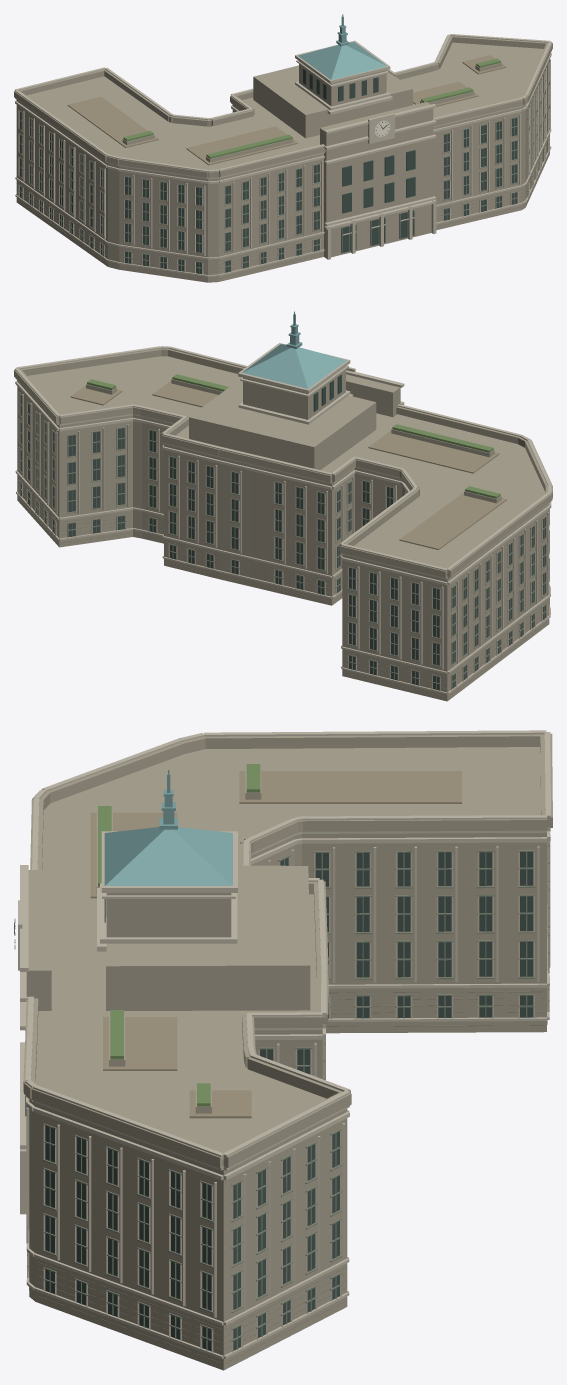
The model's file is bespoke-seoul-city-hall-library.glb.
3 renders of one model, top to bottom at view 1: azimuth 30°, elevation 25°; view 2: azimuth 150°, elevation 25°; view 3: azimuth 270°, elevation 25°, orthographic. The views are drawn at different scales.
Visible parts, largest first — view 1: Old_01_Source_U_Footprint_Observed_warm_grey_granite, Old_02_Stone_Facade_Light_limestone_cornices, Old_03_Central_Portal_Observed_warm_grey_granite, Old_02_Stone_Facade_Historic_dark_green_windows, Old_05_Roof_Terraces_Observed_warm_grey_granite, Old_02_Stone_Facade_Historic_bronze_frames, Old_04_Clock_Tower_Observed_warm_grey_granite, Old_05_Roof_Terraces_Roof_garden_deck, Old_03_Central_Portal_Light_limestone_cornices, Old_03_Central_Portal_Historic_dark_green_windows, Old_04_Clock_Tower_Weathered_blue_green_clock_roof, Old_04_Clock_Tower_Light_limestone_cornices (+4 smaller); view 2: Old_01_Source_U_Footprint_Observed_warm_grey_granite, Old_02_Stone_Facade_Light_limestone_cornices, Old_02_Stone_Facade_Historic_dark_green_windows, Old_04_Clock_Tower_Observed_warm_grey_granite, Old_05_Roof_Terraces_Observed_warm_grey_granite, Old_02_Stone_Facade_Historic_bronze_frames, Old_05_Roof_Terraces_Roof_garden_deck, Old_04_Clock_Tower_Weathered_blue_green_clock_roof, Old_04_Clock_Tower_Light_limestone_cornices, Old_02_Stone_Facade_Recessed_stone_courses, Old_05_Roof_Terraces_Library_roof_planting, Old_03_Central_Portal_Observed_warm_grey_granite; view 3: Old_01_Source_U_Footprint_Observed_warm_grey_granite, Old_02_Stone_Facade_Light_limestone_cornices, Old_04_Clock_Tower_Observed_warm_grey_granite, Old_05_Roof_Terraces_Observed_warm_grey_granite, Old_02_Stone_Facade_Historic_dark_green_windows, Old_05_Roof_Terraces_Roof_garden_deck, Old_02_Stone_Facade_Historic_bronze_frames, Old_04_Clock_Tower_Weathered_blue_green_clock_roof, Old_04_Clock_Tower_Light_limestone_cornices, Old_03_Central_Portal_Observed_warm_grey_granite, Old_03_Central_Portal_Light_limestone_cornices, Old_02_Stone_Facade_Recessed_stone_courses (+1 smaller).
Part boxes in pixels (left/top/right/bottom): Old_01_Source_U_Footprint_Observed_warm_grey_granite: left=16, top=42, right=549, bottom=282; Old_02_Stone_Facade_Light_limestone_cornices: left=14, top=34, right=551, bottom=276; Old_03_Central_Portal_Observed_warm_grey_granite: left=320, top=102, right=433, bottom=257; Old_02_Stone_Facade_Historic_dark_green_windows: left=19, top=112, right=517, bottom=273; Old_05_Roof_Terraces_Observed_warm_grey_granite: left=14, top=35, right=552, bottom=177; Old_02_Stone_Facade_Historic_bronze_frames: left=18, top=62, right=549, bottom=273; Old_04_Clock_Tower_Observed_warm_grey_granite: left=253, top=61, right=412, bottom=138; Old_05_Roof_Terraces_Roof_garden_deck: left=67, top=55, right=506, bottom=165; Old_03_Central_Portal_Light_limestone_cornices: left=324, top=104, right=436, bottom=259; Old_03_Central_Portal_Historic_dark_green_windows: left=341, top=150, right=415, bottom=252; Old_04_Clock_Tower_Weathered_blue_green_clock_roof: left=298, top=14, right=386, bottom=79; Old_04_Clock_Tower_Light_limestone_cornices: left=295, top=40, right=394, bottom=143; Old_01_Source_U_Footprint_Observed_warm_grey_granite: left=17, top=356, right=549, bottom=701; Old_02_Stone_Facade_Light_limestone_cornices: left=15, top=346, right=551, bottom=694; Old_02_Stone_Facade_Historic_dark_green_windows: left=19, top=394, right=545, bottom=690; Old_04_Clock_Tower_Observed_warm_grey_granite: left=189, top=366, right=376, bottom=469; Old_05_Roof_Terraces_Observed_warm_grey_granite: left=14, top=348, right=552, bottom=577; Old_02_Stone_Facade_Historic_bronze_frames: left=18, top=391, right=549, bottom=690; Old_05_Roof_Terraces_Roof_garden_deck: left=70, top=380, right=506, bottom=549; Old_04_Clock_Tower_Weathered_blue_green_clock_roof: left=242, top=311, right=346, bottom=388; Old_04_Clock_Tower_Light_limestone_cornices: left=238, top=343, right=355, bottom=424; Old_02_Stone_Facade_Recessed_stone_courses: left=17, top=476, right=548, bottom=697; Old_05_Roof_Terraces_Library_roof_planting: left=87, top=374, right=500, bottom=498; Old_03_Central_Portal_Observed_warm_grey_granite: left=346, top=374, right=400, bottom=417; Old_01_Source_U_Footprint_Observed_warm_grey_granite: left=29, top=747, right=546, bottom=1370; Old_02_Stone_Facade_Light_limestone_cornices: left=25, top=730, right=550, bottom=1358; Old_04_Clock_Tower_Observed_warm_grey_granite: left=106, top=865, right=310, bottom=1010; Old_05_Roof_Terraces_Observed_warm_grey_granite: left=23, top=733, right=552, bottom=1168; Old_02_Stone_Facade_Historic_dark_green_windows: left=45, top=852, right=533, bottom=1351; Old_05_Roof_Terraces_Roof_garden_deck: left=90, top=771, right=461, bottom=1118; Old_02_Stone_Facade_Historic_bronze_frames: left=27, top=841, right=549, bottom=1350; Old_04_Clock_Tower_Weathered_blue_green_clock_roof: left=104, top=769, right=232, bottom=885; Old_04_Clock_Tower_Light_limestone_cornices: left=18, top=831, right=237, bottom=970; Old_03_Central_Portal_Observed_warm_grey_granite: left=26, top=870, right=51, bottom=1010; Old_03_Central_Portal_Light_limestone_cornices: left=20, top=865, right=28, bottom=1214; Old_02_Stone_Facade_Recessed_stone_courses: left=29, top=986, right=547, bottom=1363.
Size of the model in its own units: 81.5 by 35 by 43.52.
